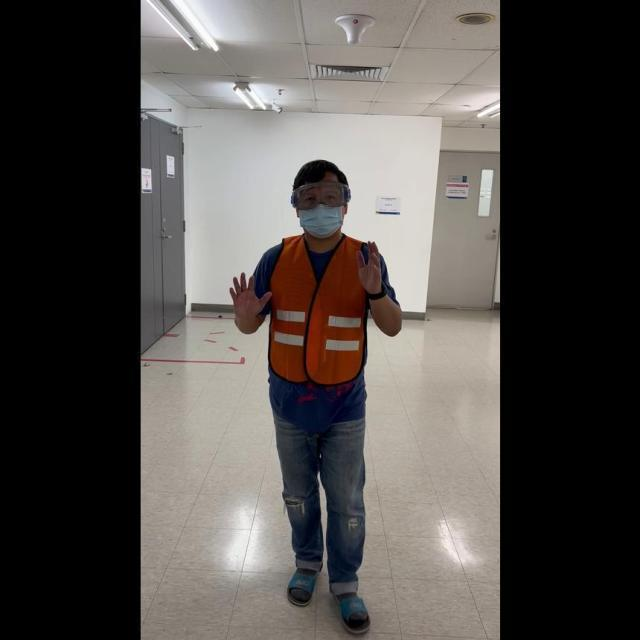bare_hand: (226, 267, 271, 324), (353, 236, 386, 296)
